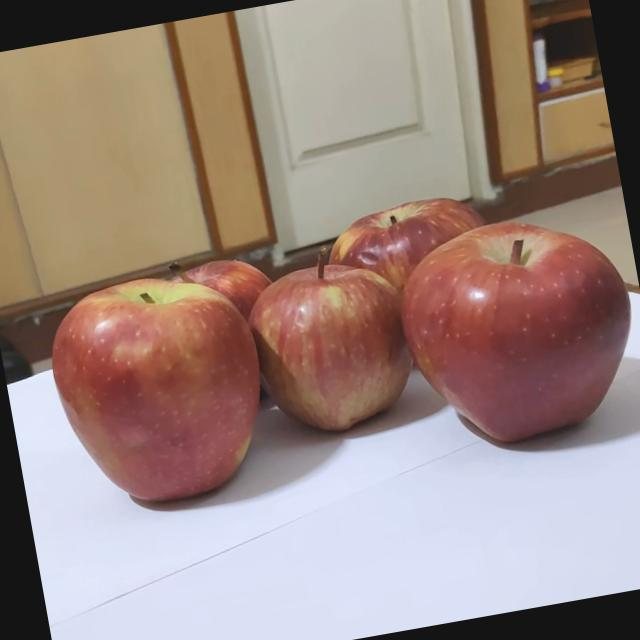apple: (388, 196, 640, 480), (326, 165, 551, 383), (51, 258, 268, 482), (233, 243, 426, 436), (152, 227, 315, 386)
